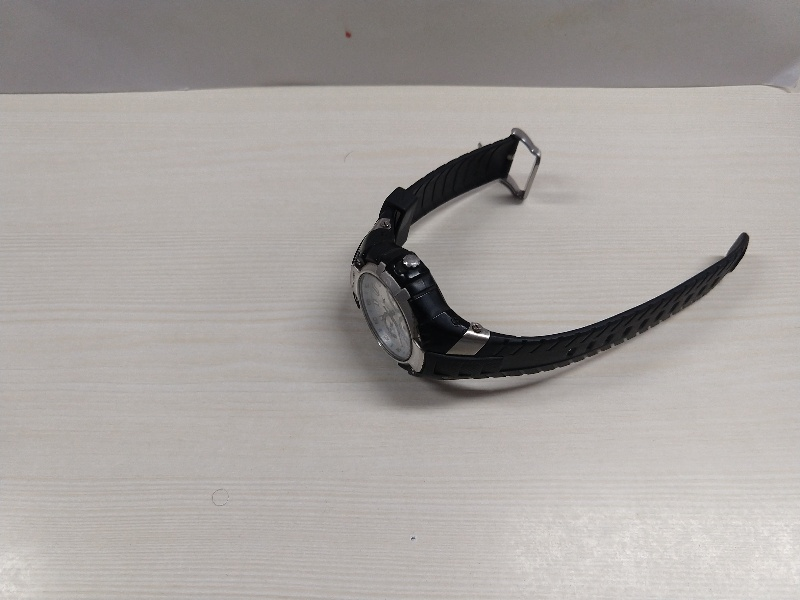watch: (335, 130, 756, 395)
